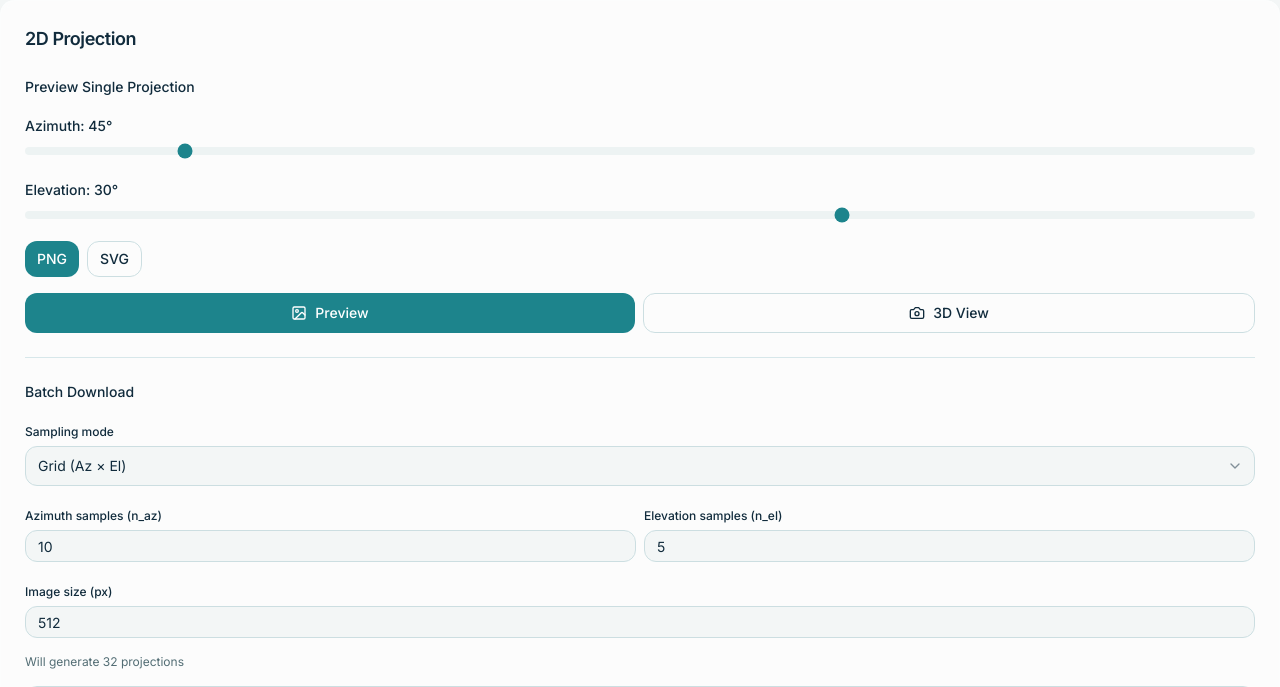
Test: ProjectionControls › switching to fibonacci mode shows only the n input
Step 1. Select "Fibonacci lattice (uniform)" in the dropdown labelled "Sampling mode" → (640, 466), box [25,446,1255,486]
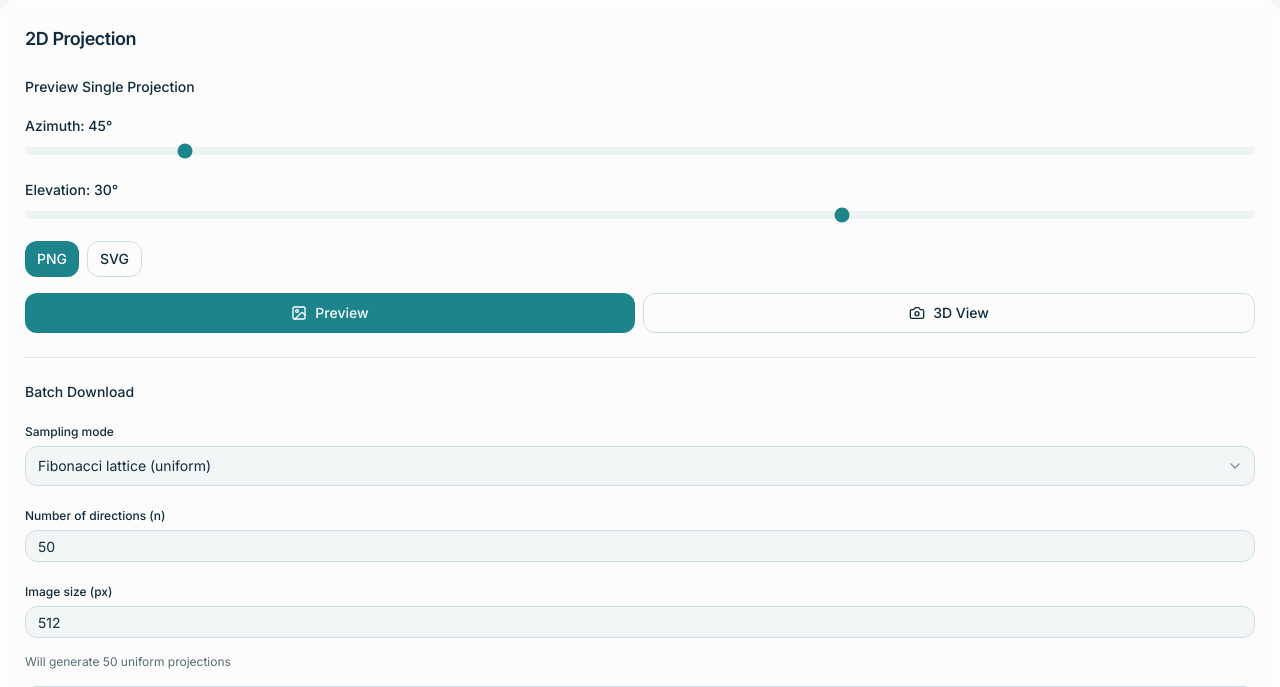
Expected: the number field labelled "Number of directions (n)" is shown, [25,530,1255,562]
Expected: the label labelled "Azimuth samples" is gone
Expected: the label labelled "Elevation samples" is gone
